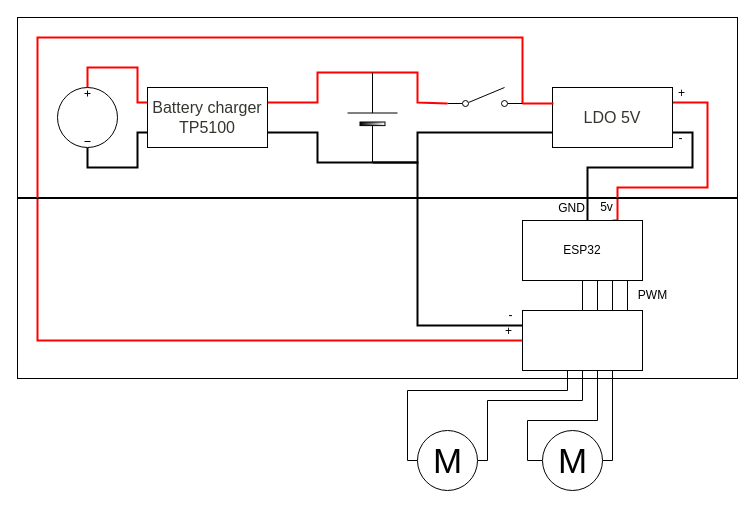
Image size: 755x508. Some labels were removed from this diagram. The shapes that lost their labels are listed below. From the top down, each one's box as (x1, y1, x2, y2) in pixels, then its label:
(346, 72, 398, 162): Battery 7.4v
(522, 310, 642, 370): DRV8833
